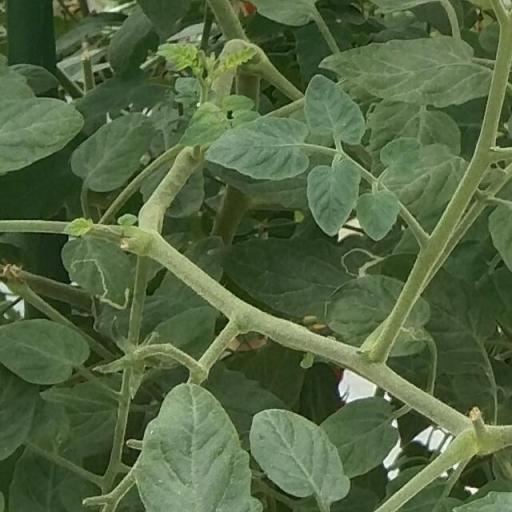Healthy: (134, 382, 251, 512), (317, 34, 495, 108), (248, 409, 350, 502), (318, 394, 400, 478), (71, 112, 157, 192), (204, 116, 309, 180), (0, 98, 84, 176), (382, 142, 470, 216), (0, 318, 90, 386), (303, 74, 367, 147), (306, 158, 361, 236), (355, 190, 400, 242)
Leaf_Miner: (206, 232, 419, 320), (324, 275, 430, 358), (59, 234, 135, 318)
